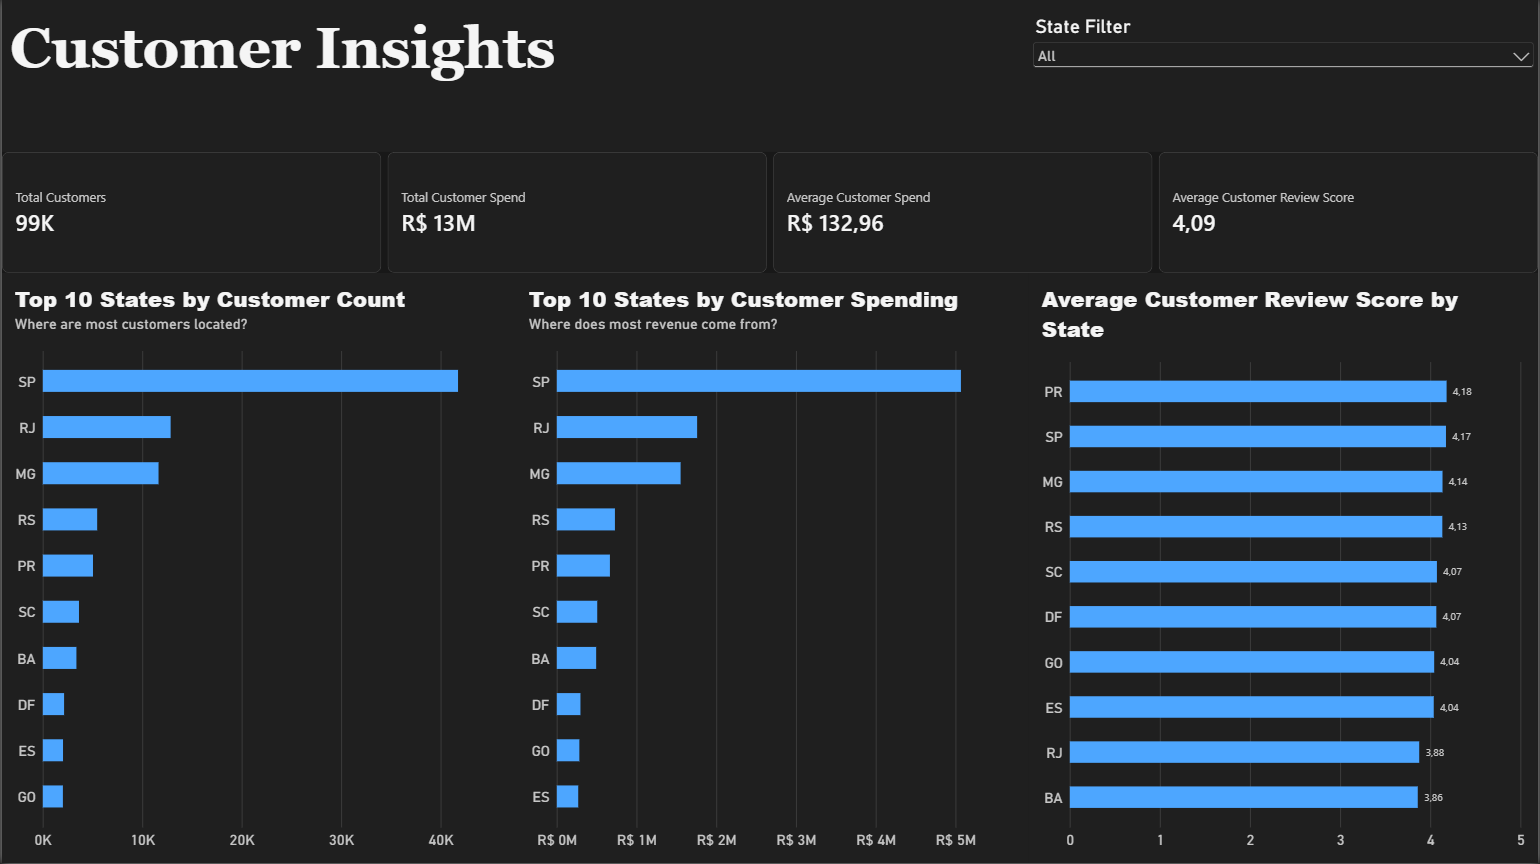

The dashboard page shown, as its layout file describes it:
{"tool":"powerbi","page":{"name":"Customer Insights","canvas":[1920,1080],"ordinal":3},"visuals":[{"type":"cardVisual","fields":{"Data":["MART_CUSTOMERS.Total Customers","MART_CUSTOMERS.Total Customer Spend","MART_CUSTOMERS.Average Customer Spend","MART_CUSTOMERS.Average Customer Review Score"]},"box":[0,191.2,1920,151.2],"z":0},{"type":"clusteredBarChart","title":"Top 10 States by Customer Count","fields":{"Category":["MART_CUSTOMERS.CUSTOMER_STATE"],"Y":["MART_CUSTOMERS.Total Customers"]},"box":[0,342.5,642.5,737.5],"z":1},{"type":"clusteredBarChart","title":"Top 10 States by Customer Spending","fields":{"Category":["MART_CUSTOMERS.CUSTOMER_STATE"],"Y":["MART_CUSTOMERS.Total Customer Spend"]},"box":[642.5,342.5,641.2,737.5],"z":2},{"type":"clusteredBarChart","title":"Average Customer Review Score by State","fields":{"Category":["MART_CUSTOMERS.CUSTOMER_STATE"],"Y":["MART_CUSTOMERS.Average Customer Review Score"]},"box":[1283.8,342.5,636.2,737.5],"z":3},{"type":"slicer","fields":{"Values":["MART_CUSTOMERS.CUSTOMER_STATE"]},"box":[1283.8,0,636.2,191.2],"z":4},{"type":"textbox","box":[0,0,1283.8,191.2],"z":5}]}

Visuals, with their boxes in screenshot pixels (x1, y1, x2, y2), scaled from the page's 1920x1080 canvas onto the 1540x864 screenshot:
cardVisual - MART_CUSTOMERS.Total Customers x MART_CUSTOMERS.Total Customer Spend: bbox(0, 153, 1539, 274)
"Top 10 States by Customer Count" clusteredBarChart: bbox(0, 274, 515, 863)
"Top 10 States by Customer Spending" clusteredBarChart: bbox(515, 274, 1030, 863)
"Average Customer Review Score by State" clusteredBarChart: bbox(1030, 274, 1539, 863)
slicer - MART_CUSTOMERS.CUSTOMER_STATE: bbox(1030, 0, 1539, 153)
textbox: bbox(0, 0, 1030, 153)
